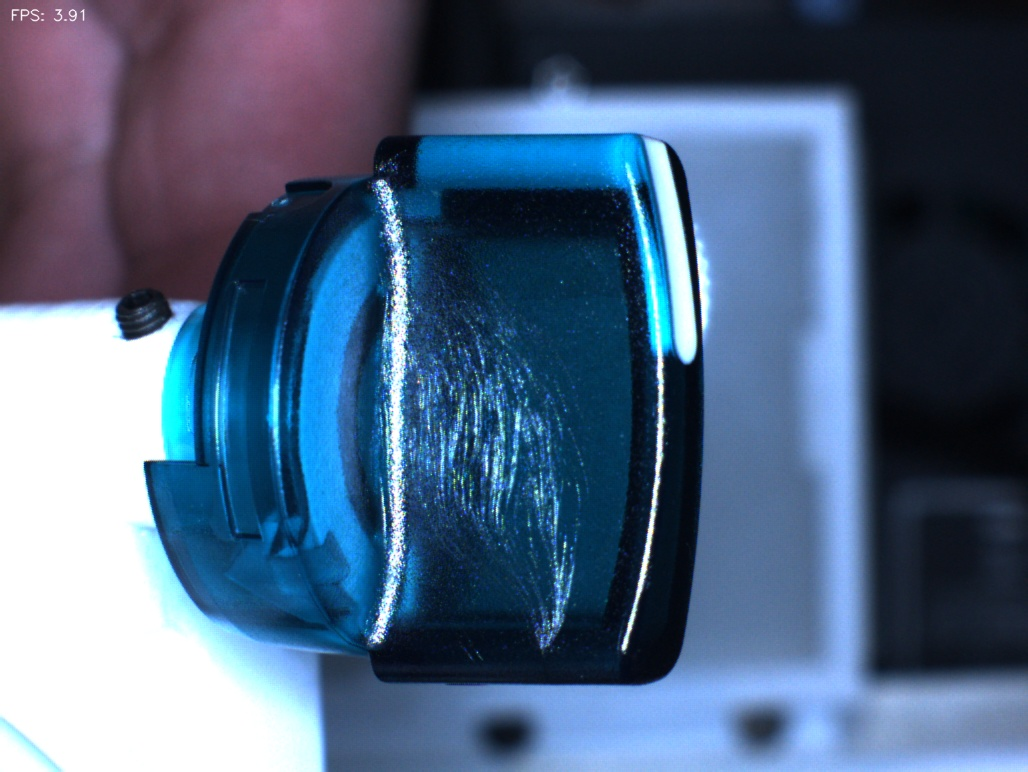Givrage: (409, 267, 609, 647)
